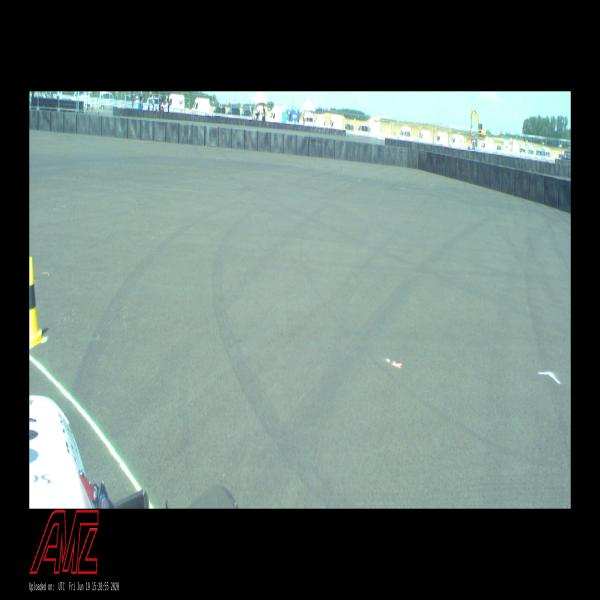yellow_cone: (29, 257, 42, 346)
